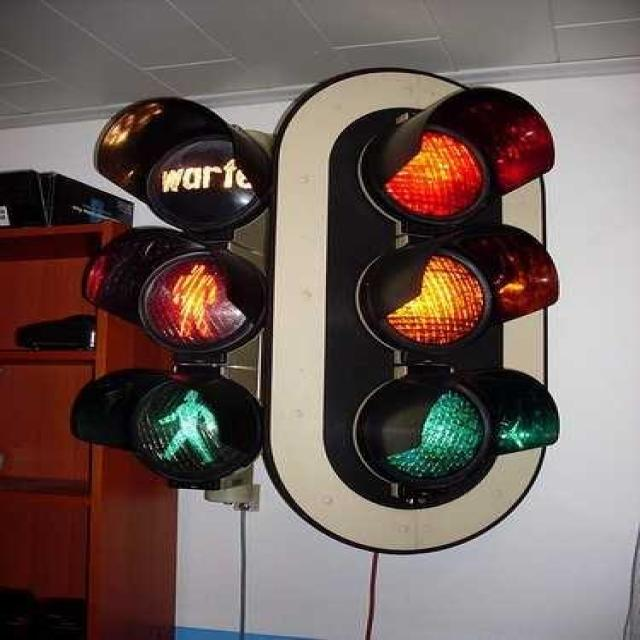Traffic Light -Green-: (331, 70, 524, 525)
